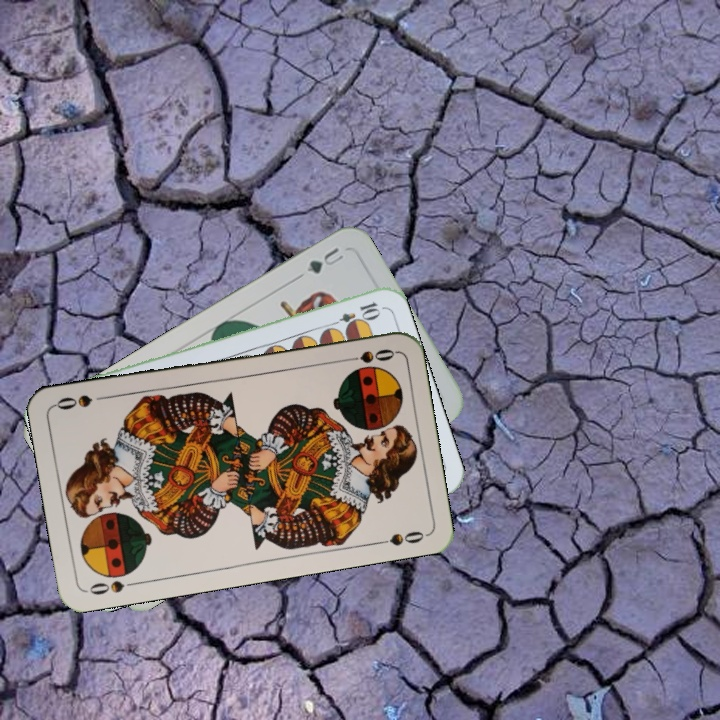E10: (325, 298, 383, 331)
GU: (302, 243, 347, 277)
SO: (338, 344, 397, 366), (83, 576, 142, 598)
